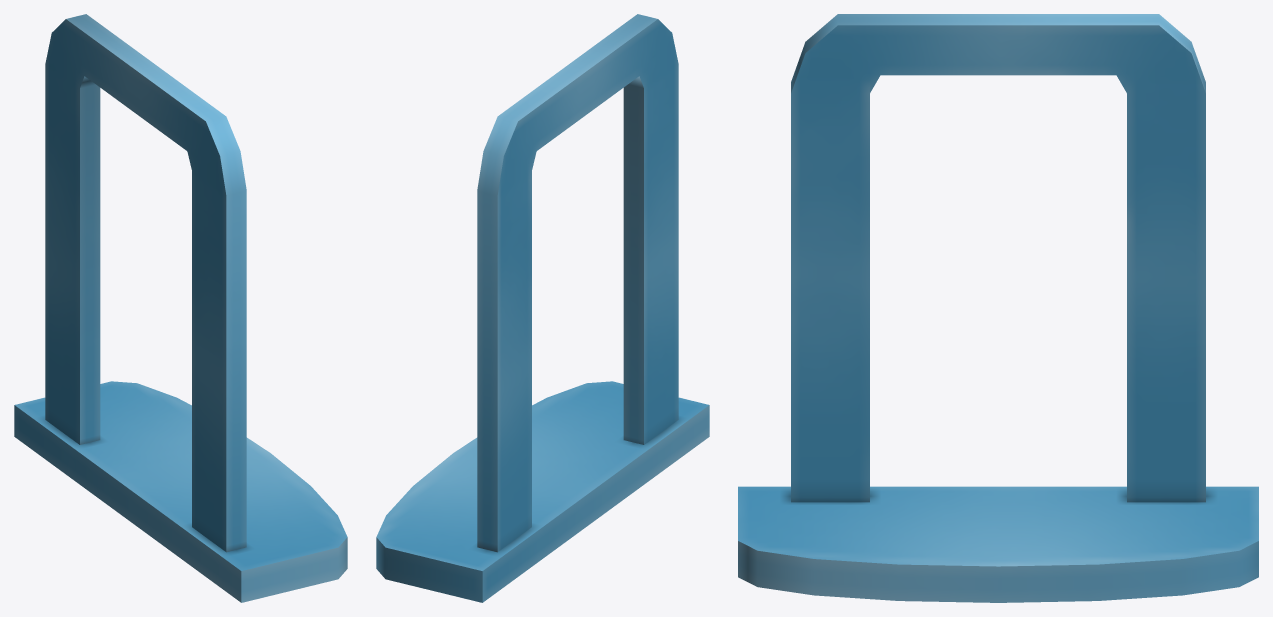
File: Book_stand_01_01.fbx
3 renders of one model, left to right at view 1: azimuth 30°, elevation 25°; view 2: azimuth 150°, elevation 25°; view 3: azimuth 270°, elevation 25°, orthographic. The views are drawn at different scales.
Parts seen in each view (by area): view 1: book_stand_01_01; view 2: book_stand_01_01; view 3: book_stand_01_01.
Part boxes in pixels (x1=…): book_stand_01_01: x1=14, y1=14, x2=347, y2=602; book_stand_01_01: x1=376, y1=14, x2=709, y2=602; book_stand_01_01: x1=738, y1=14, x2=1258, y2=602.
Size of the model in its own units: 6.08 by 18.19 by 16.72.
